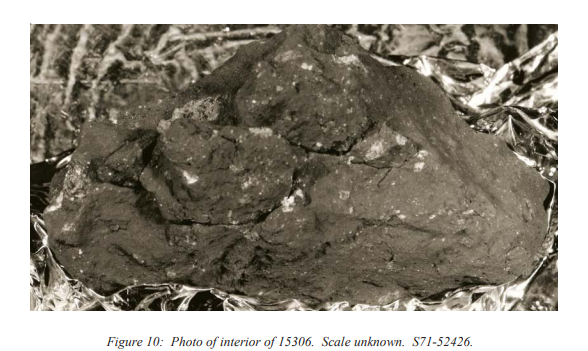Breccia: (126, 105, 490, 274)
